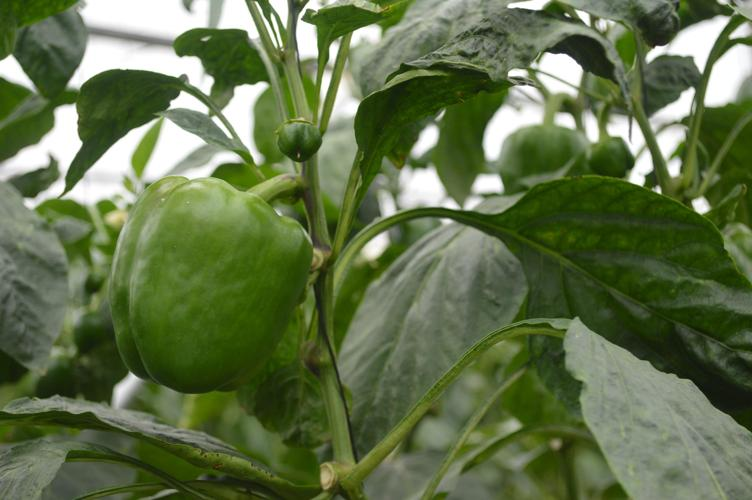BellPepper: (101, 178, 317, 402), (264, 116, 333, 182)
